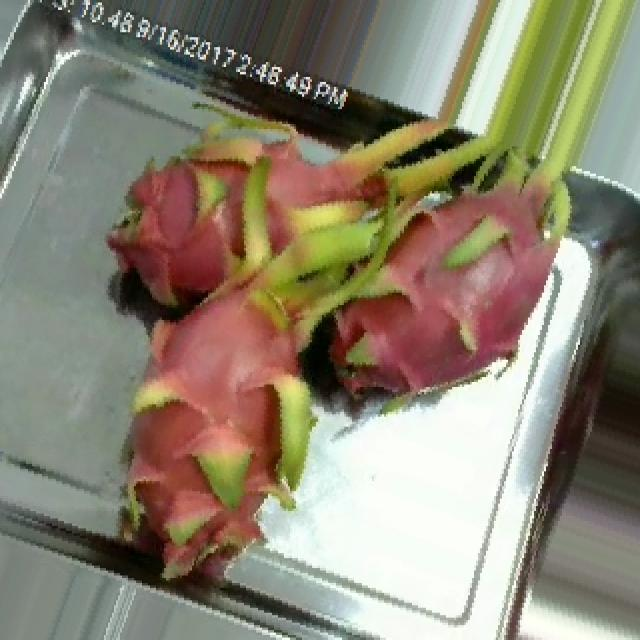Fruit: (92, 126, 288, 348), (304, 266, 496, 429)
